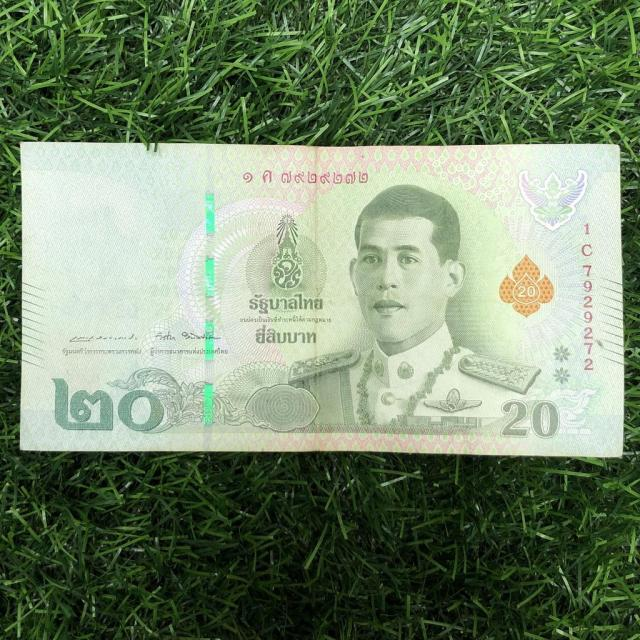THAI20: (20, 142, 622, 457)
